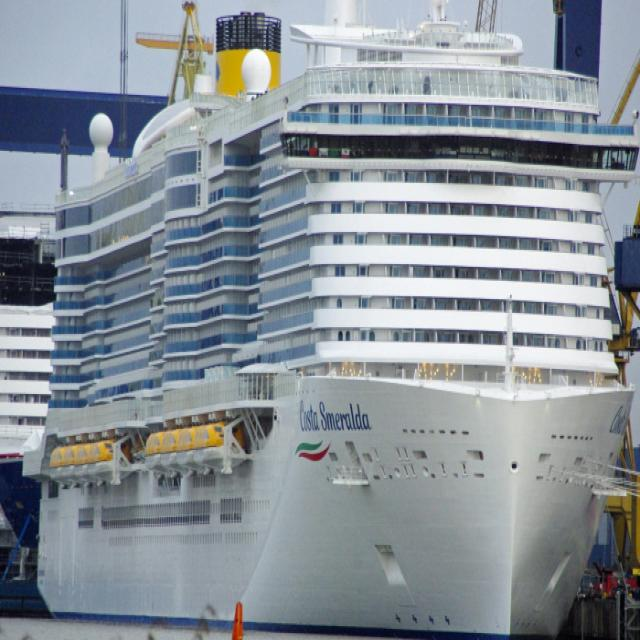cruises: (31, 1, 638, 640)
